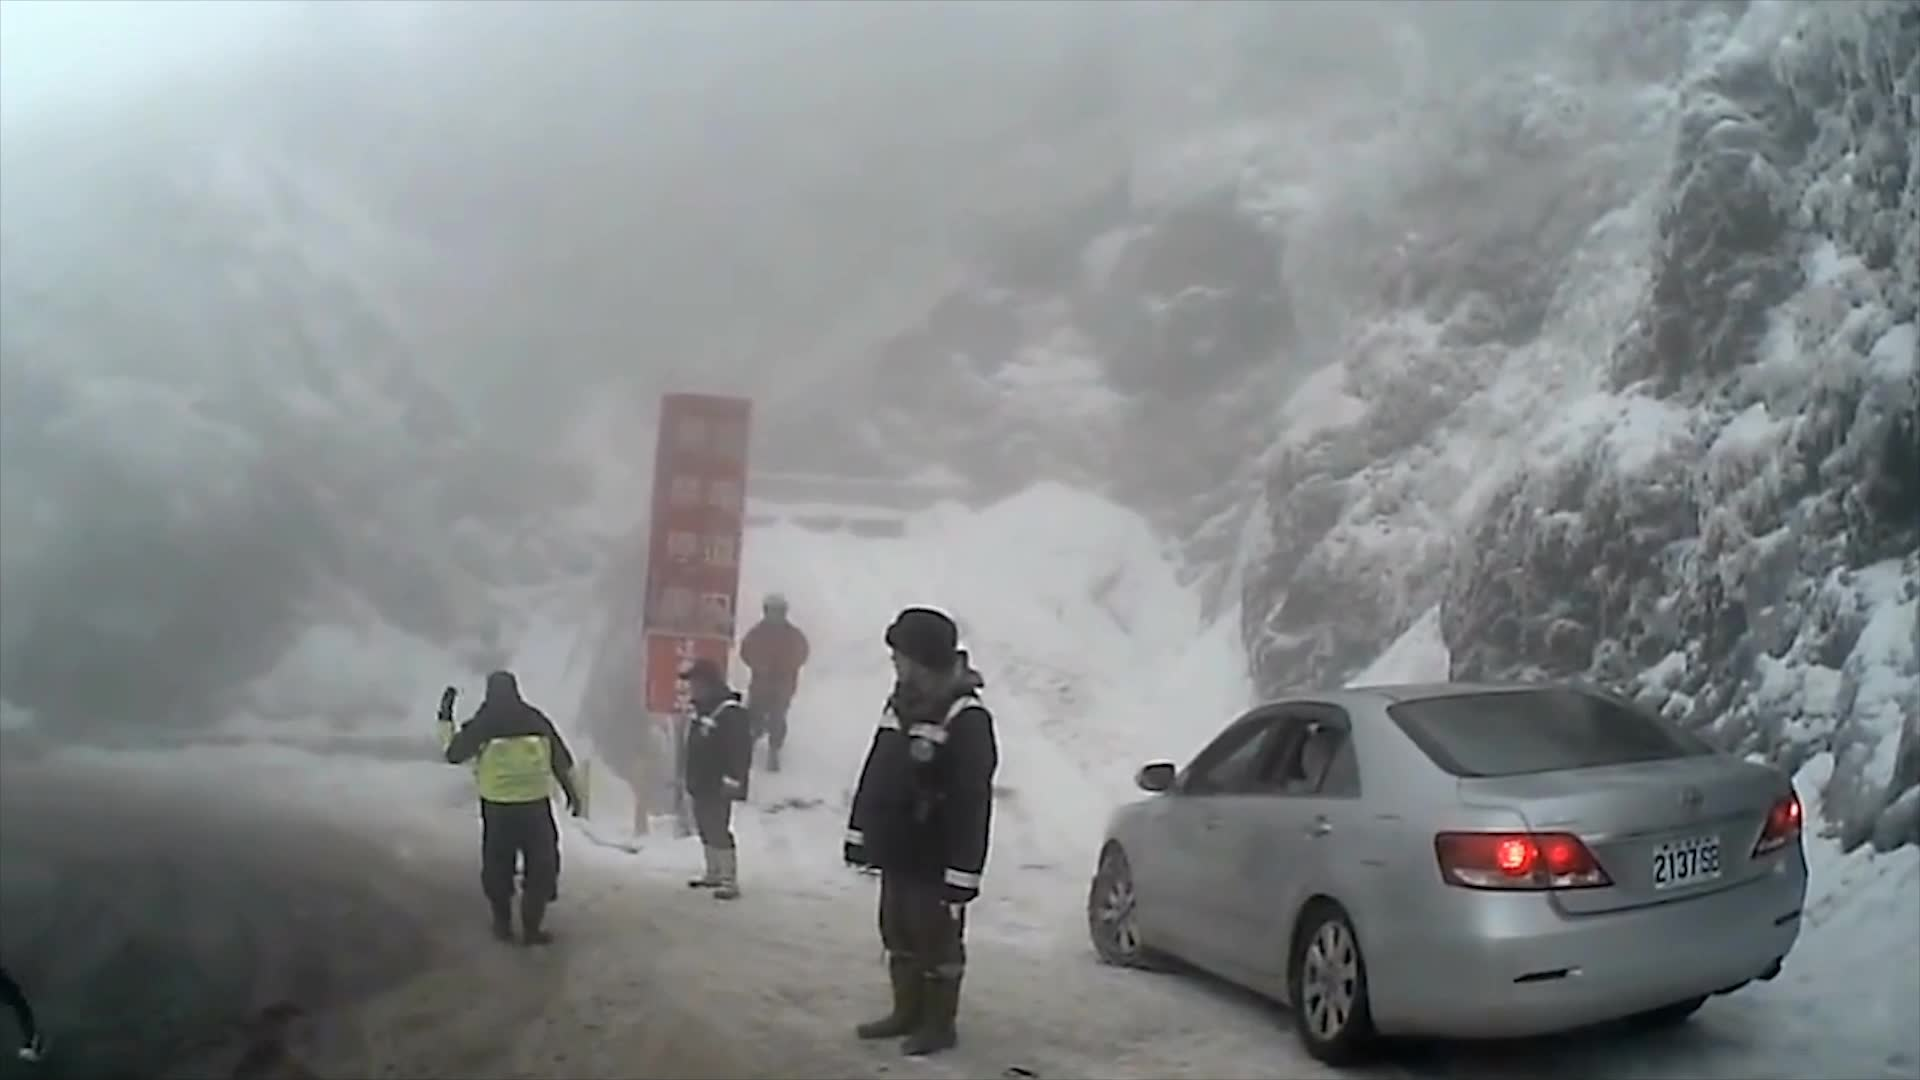pedestrian: (847, 606, 1001, 1056), (430, 665, 588, 937), (681, 654, 761, 898), (743, 585, 820, 781)
vehicle: (1086, 678, 1806, 1064)
